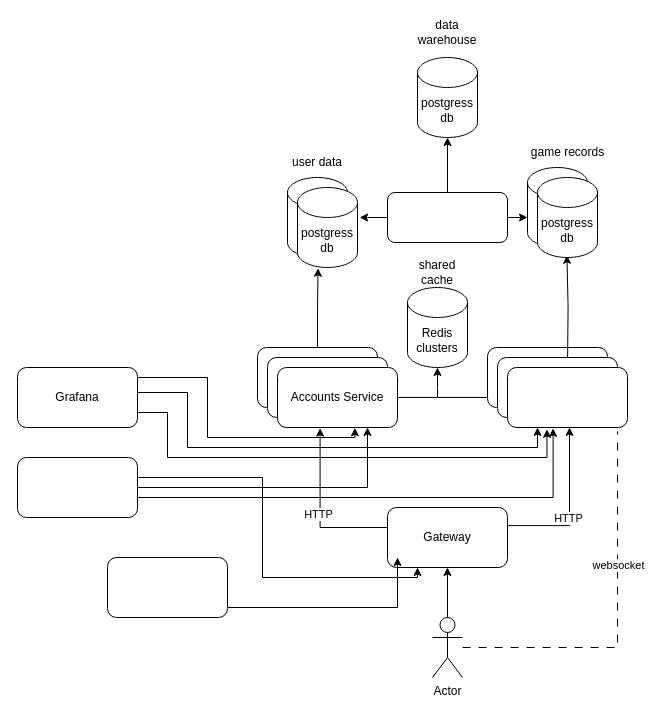
Image size: 662x715. Some labels were removed from this diagram. Each missing label, with the centre of its shape:
ETL service: (447,217)
Game Service: (567,397)
Prometheus: (77,487)
Service discovery: (167,587)
